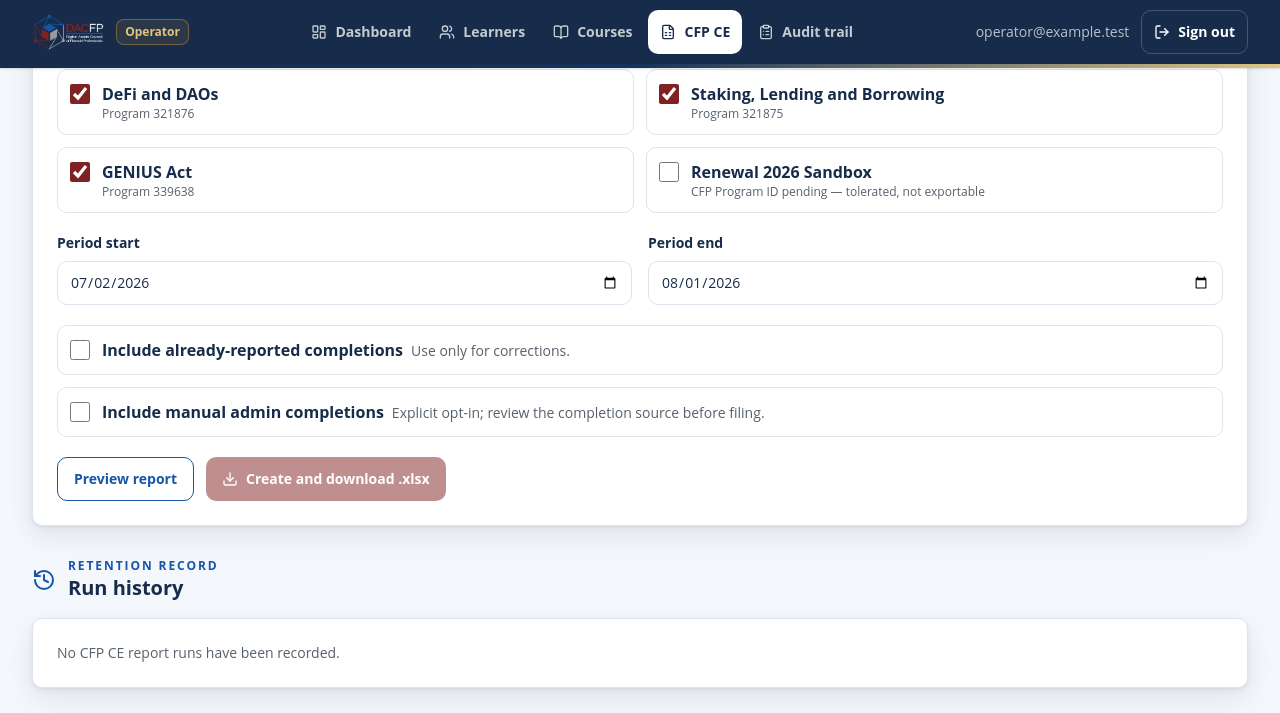
Test: Admin CFP CE reporting — R1 › previews the reportable/missing/already split and records an export run
(page scrolled)
What coordinates should you click on to do the following:
click the button "Preview report"
I would click on:
 (126, 479)
Its box is [57,457,194,501].
(page scrolled)
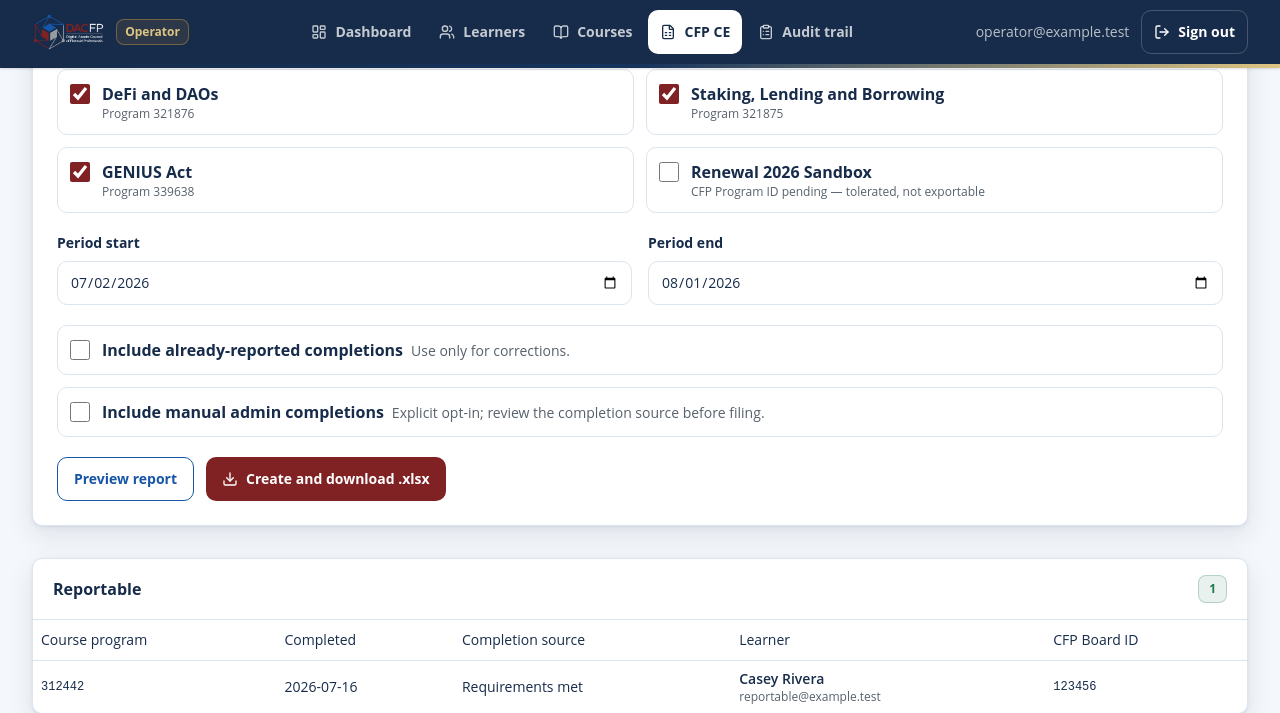
expect the text "reportable@example.test" is shown: met, box [739,688,881,704]
What coordinates should you click on to do the following:
click the button "Create and download .xlsx"
I would click on:
 (326, 479)
Its box is [206,457,446,501].
(page scrolled)
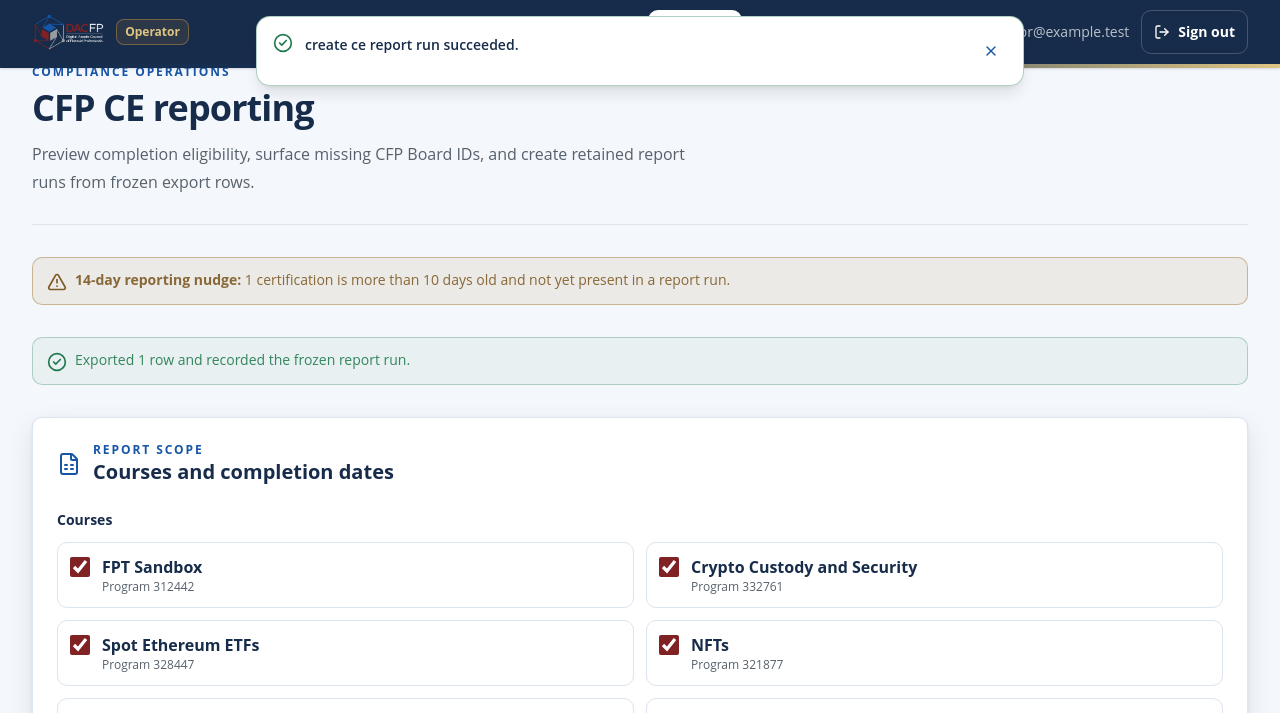
expect the text "Exported 1 row and recorded the frozen report run." is shown: met, box [75,350,410,369]
